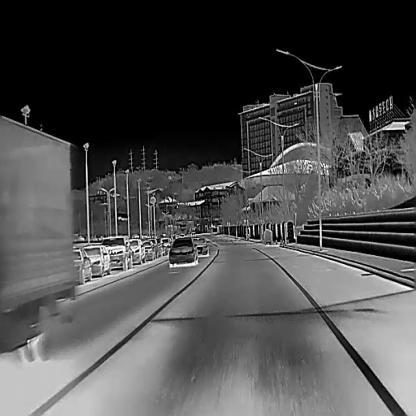car: (0, 111, 76, 365), (101, 235, 133, 271), (82, 244, 111, 276), (168, 236, 197, 266), (72, 246, 93, 284), (128, 237, 146, 264), (192, 236, 209, 255), (142, 239, 155, 259), (154, 237, 163, 257), (161, 237, 172, 251)
